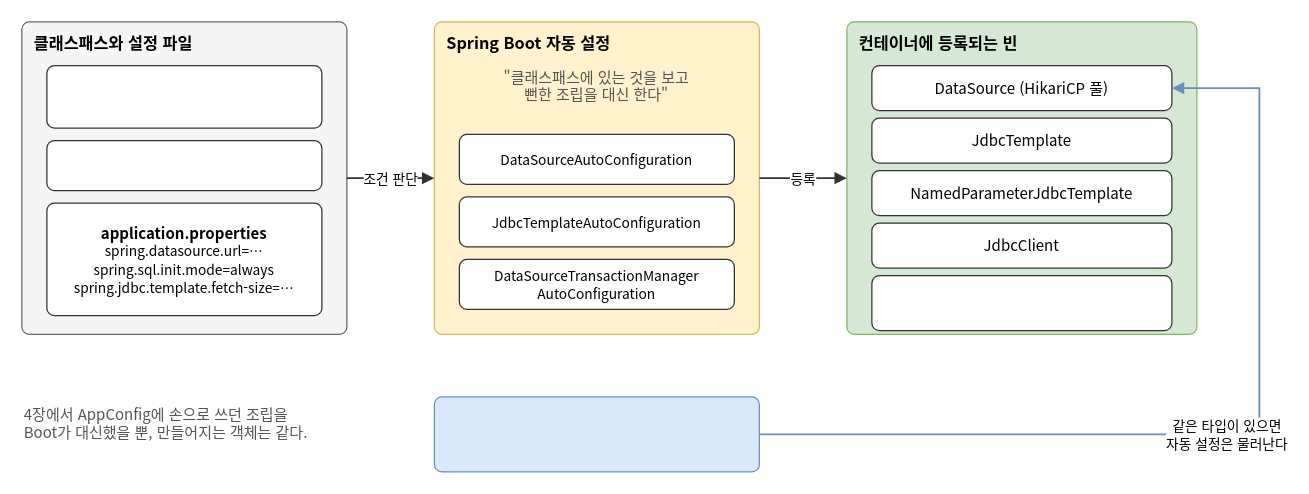
The diagram is 1309 pixels wide and 494 high, and some of its shapes have lost their labels. The centre of each missing label's shape, as x and y in pixels:
h2 (JDBC 드라이버): point 184,165
JdbcTransactionManager + @EnableTransactionManagement: point 1021,302
spring-boot-starter-jdbc spring-jdbc + HikariCP: point 184,96
개발자가 직접 등록한 빈 @Bean DataSource … 또는 Testcontainers의 @ServiceConnection: point 596,434
